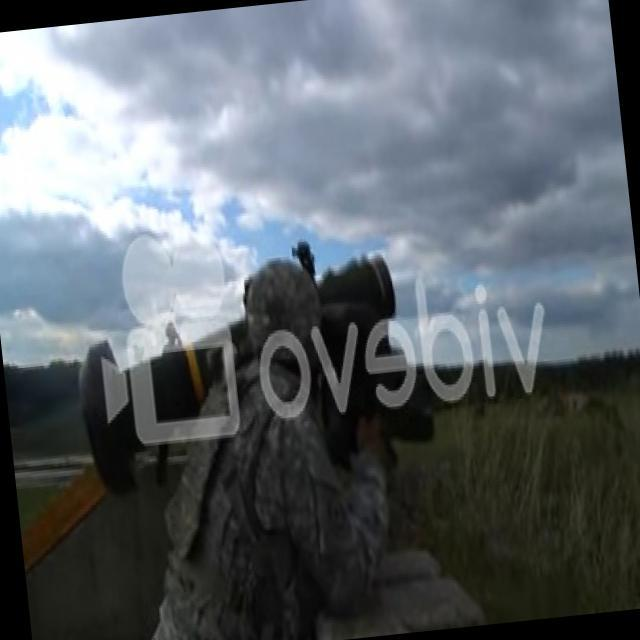rocket: (68, 250, 410, 484)
